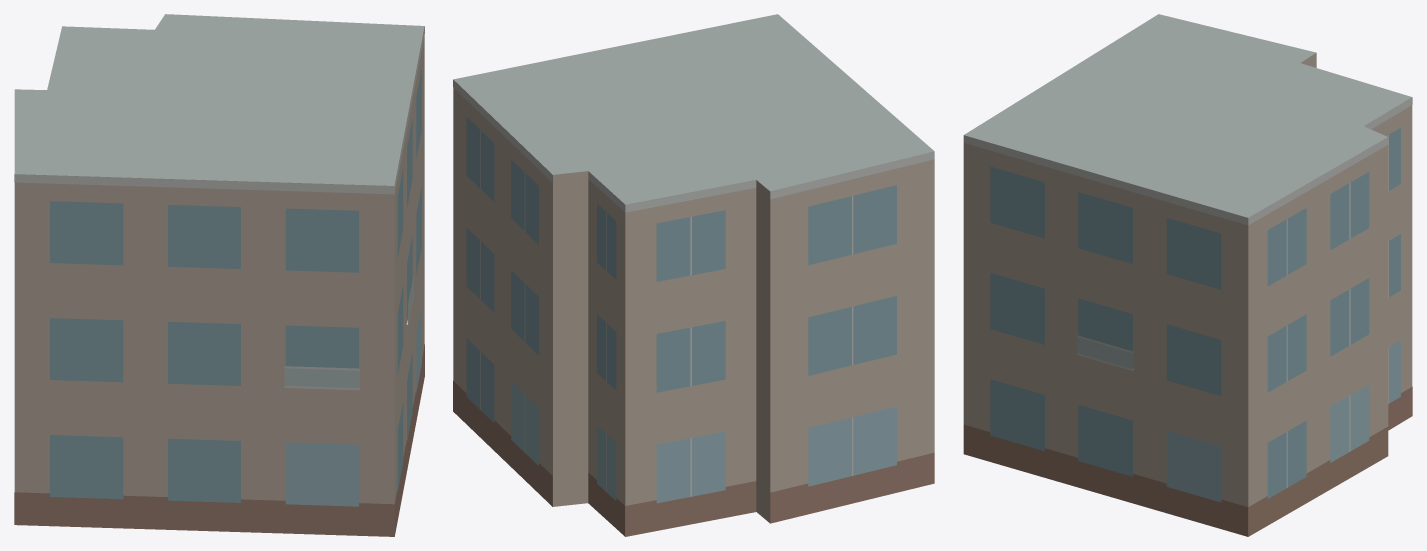
Rendered from survey-upis-32890295.glb.
3 renders of one model, left to right at view 1: azimuth 30°, elevation 25°; view 2: azimuth 150°, elevation 25°; view 3: azimuth 270°, elevation 25°, orthographic. The views are drawn at different scales.
Visible parts, largest first — view 1: survey-upis-32890295.tmp; view 2: survey-upis-32890295.tmp; view 3: survey-upis-32890295.tmp.
Part boxes in pixels (box(x1,y1,x2,y2)): survey-upis-32890295.tmp: box(14, 14, 424, 536); survey-upis-32890295.tmp: box(453, 14, 934, 536); survey-upis-32890295.tmp: box(963, 14, 1412, 536).
Size of the model in its own units: 13.99 by 10.2 by 13.01.
